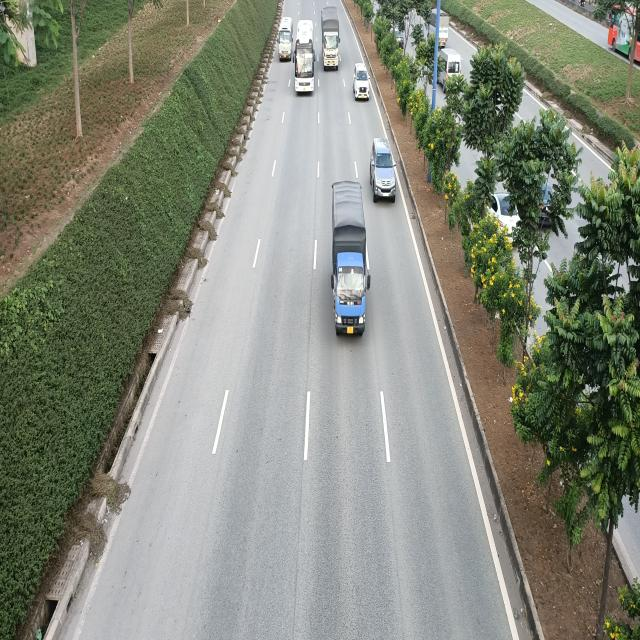car: (370, 140, 398, 201), (352, 64, 370, 100)
coach: (293, 18, 316, 95), (278, 13, 296, 60)
truck: (332, 183, 373, 339), (320, 3, 340, 72)
